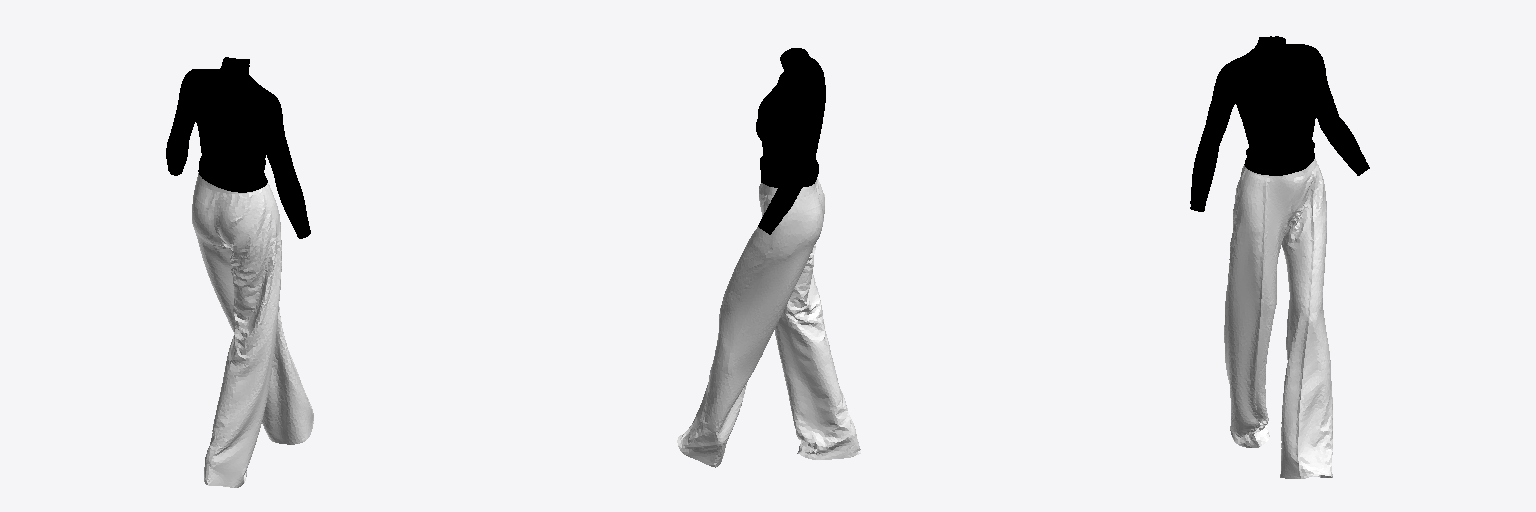
File: DA_HighNeck+WidePants_0000159.obj
3 renders of one model, left to right at view 1: azimuth 30°, elevation 25°; view 2: azimuth 150°, elevation 25°; view 3: azimuth 270°, elevation 25°, orthographic.
Bounding box in the file's own units: 0.5923 × 1.62 × 0.6416.